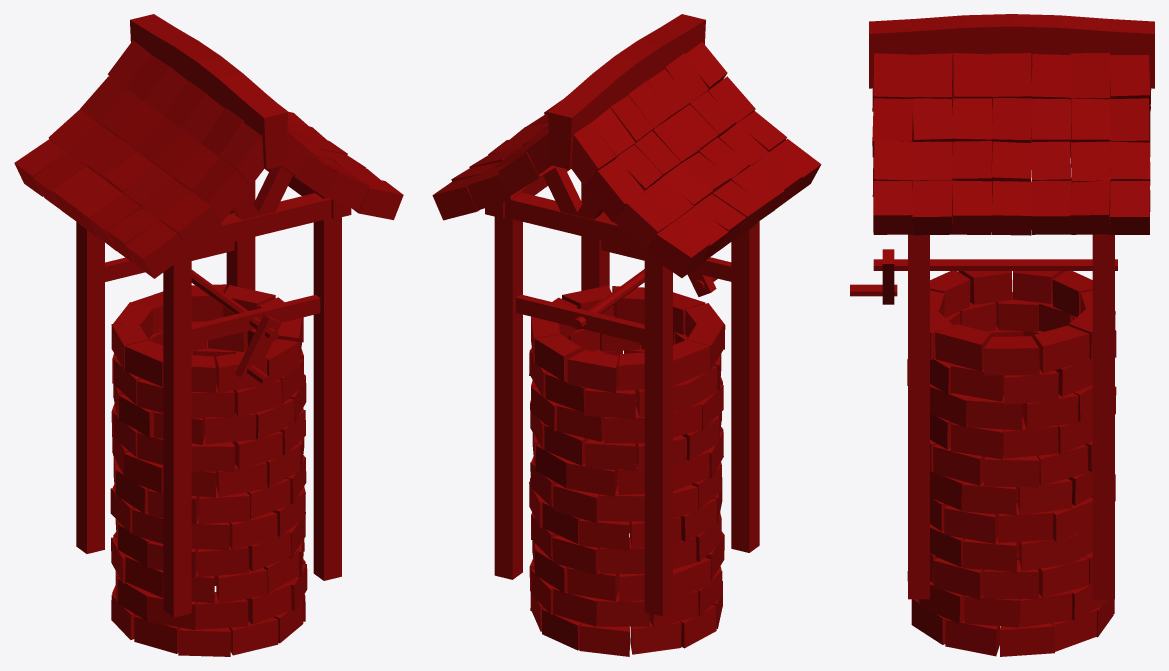
3 views of the same model, side by side, from view 1: azimuth 30°, elevation 25°; view 2: azimuth 150°, elevation 25°; view 3: azimuth 270°, elevation 25° (orthographic). The views are drawn at different scales.
Visible parts, largest first — view 1: jin, 立方体.003; view 2: jin, 立方体.003; view 3: jin, 立方体.003.
Boxes of the visible parts, box(x1,y1,x2,y2) form: jin: box(14, 14, 403, 656); 立方体.003: box(191, 270, 281, 386); jin: box(432, 14, 821, 656); 立方体.003: box(572, 269, 717, 329); jin: box(869, 14, 1154, 656); 立方体.003: box(850, 249, 1117, 304).
Bounding box in the file's own units: 130 × 266 × 124.
